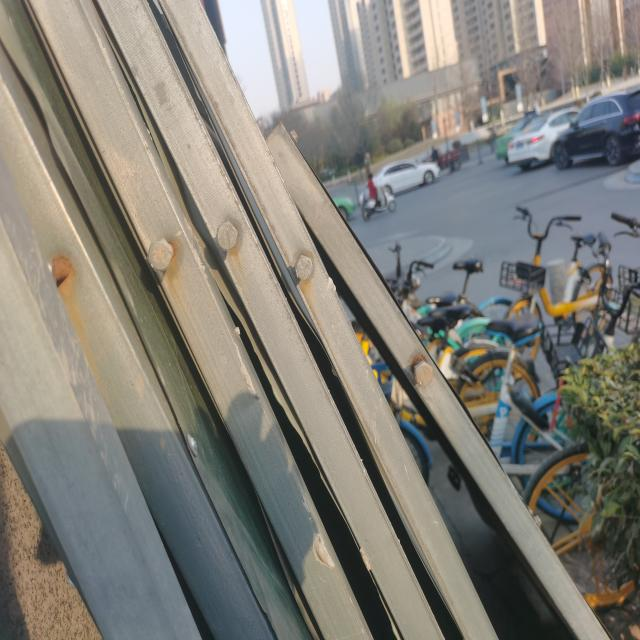bolt head: (146, 236, 174, 274), (214, 219, 240, 253), (293, 253, 315, 282), (413, 358, 434, 388)
